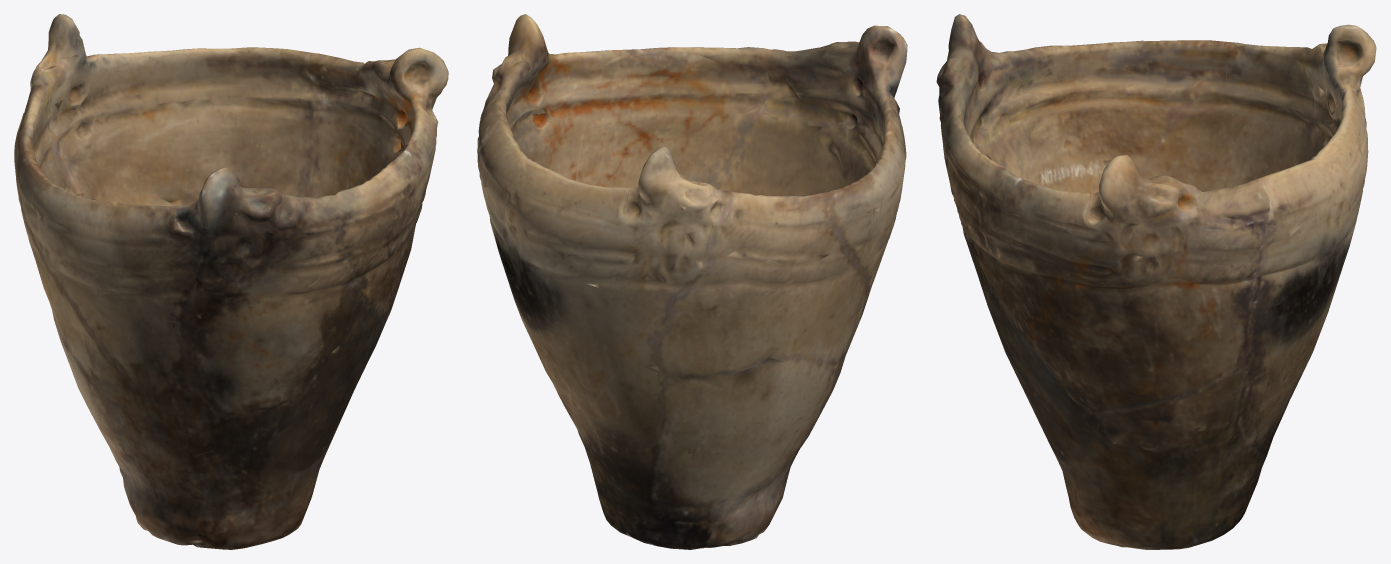
3 views of the same model, side by side, from view 1: azimuth 30°, elevation 25°; view 2: azimuth 150°, elevation 25°; view 3: azimuth 270°, elevation 25° (orthographic). The views are drawn at different scales.
Parts seen in each view (by area): view 1: NM0189_low; view 2: NM0189_low; view 3: NM0189_low.
Boxes of the visible parts, box(x1,y1,x2,y2) form: NM0189_low: box(14, 14, 448, 549); NM0189_low: box(477, 14, 907, 549); NM0189_low: box(936, 14, 1376, 549).
Bounding box in the file's own units: 160 × 178 × 155.
1 material, 1 textured.
